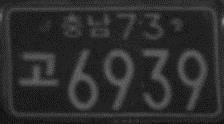3: (140, 47, 172, 109), (142, 10, 163, 40)
6: (67, 46, 99, 112)
7: (115, 10, 138, 40)
9: (102, 45, 136, 112), (176, 47, 209, 113)
고: (16, 49, 60, 89)
충남_O: (60, 10, 111, 40)
